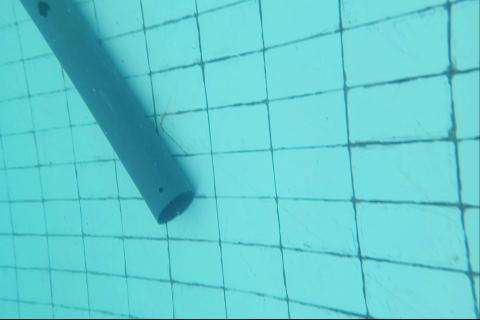kebocoran: (37, 1, 50, 18), (158, 186, 163, 193)
